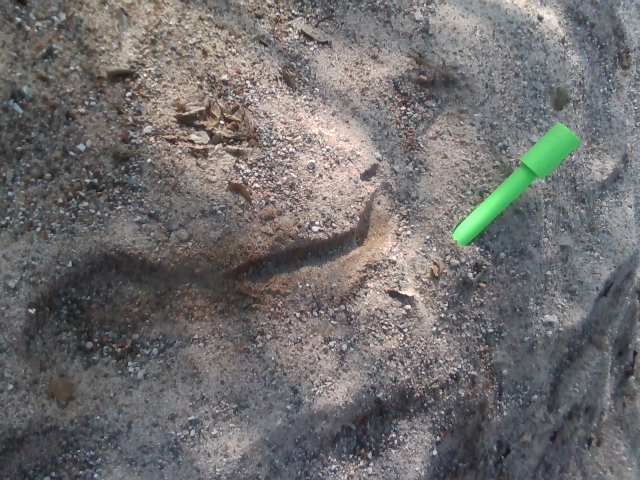Probe: (437, 112, 588, 258)
